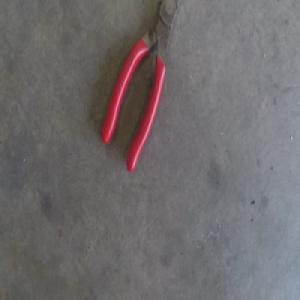Pliers: (101, 0, 180, 174)
